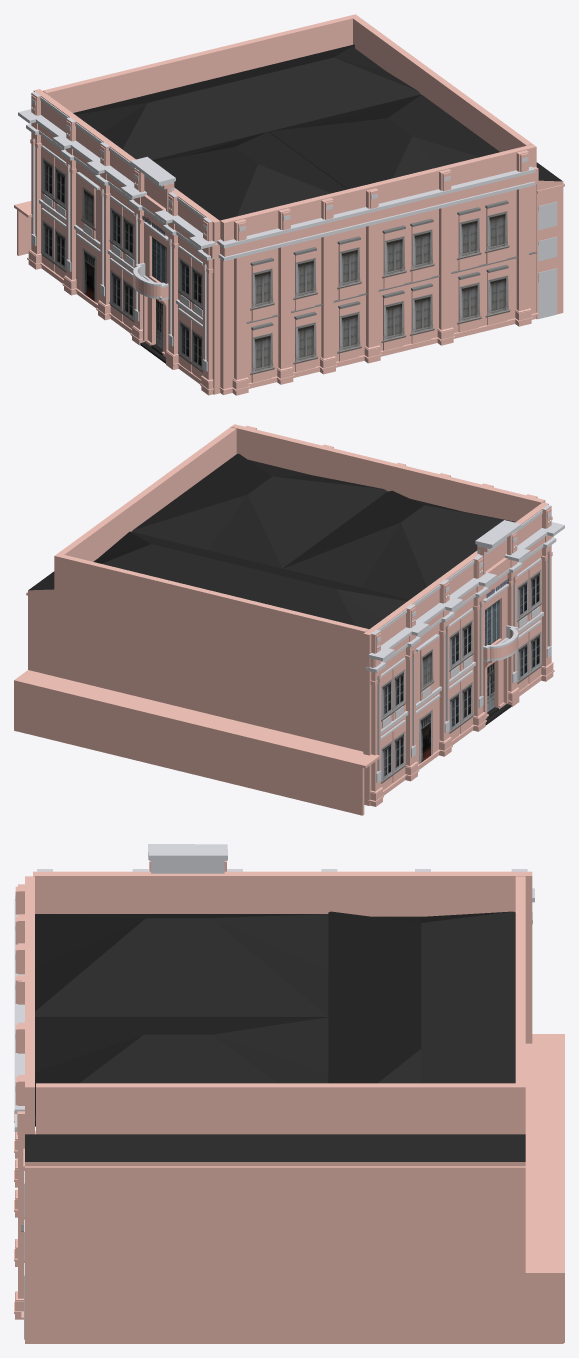
File: caixeral.glb
3 renders of one model, top to bottom at view 1: azimuth 30°, elevation 25°; view 2: azimuth 150°, elevation 25°; view 3: azimuth 270°, elevation 25°, orthographic. The views are drawn at different scales.
Visible parts, largest first — view 1: Cube.016, Cube.158, Cube.157, Cube.009, Cube.156, Cube.154, Cube, Cube.011, Cube.155, Cube.080, Cube.159, Cube.014 (+40 smaller); view 2: Cube.154, Cube.162, Cube.157, Cube.156, Cube.158, Cube.016, Cube, Cube.011, Cube.161, Cube.155, Cube.159, Cube.012 (+15 smaller); view 3: Cube.159, Cube.158, Cube.156, Cube.155, Cube, Cube.157, Cube.161, Cube.154, Cube.164, Cube.016, Cube.009, Cube.131 (+3 smaller).
Boxes of the visible parts, x1=… form: Cube.016: x1=220, y1=144, x2=536, y2=394; Cube.158: x1=73, y1=44, x2=420, y2=161; Cube.157: x1=269, y1=94, x2=499, y2=189; Cube.009: x1=234, y1=150, x2=528, y2=379; Cube.156: x1=154, y1=131, x2=346, y2=220; Cube.154: x1=43, y1=14, x2=358, y2=112; Cube: x1=33, y1=89, x2=220, y2=394; Cube.011: x1=31, y1=92, x2=212, y2=379; Cube.155: x1=353, y1=16, x2=532, y2=151; Cube.080: x1=220, y1=166, x2=538, y2=256; Cube.159: x1=536, y1=162, x2=564, y2=319; Cube.014: x1=217, y1=166, x2=535, y2=248; Cube.154: x1=54, y1=554, x2=368, y2=751; Cube.162: x1=14, y1=680, x2=364, y2=815; Cube.157: x1=132, y1=453, x2=387, y2=568; Cube.156: x1=283, y1=490, x2=515, y2=599; Cube.158: x1=93, y1=531, x2=409, y2=629; Cube.016: x1=231, y1=424, x2=545, y2=521; Cube: x1=363, y1=502, x2=548, y2=805; Cube.011: x1=371, y1=504, x2=551, y2=791; Cube.161: x1=14, y1=670, x2=379, y2=768; Cube.155: x1=57, y1=427, x2=236, y2=561; Cube.159: x1=26, y1=571, x2=54, y2=675; Cube.012: x1=368, y1=522, x2=564, y2=660; Cube.159: x1=23, y1=1134, x2=525, y2=1343; Cube.158: x1=328, y1=911, x2=515, y2=1083; Cube.156: x1=35, y1=914, x2=328, y2=1017; Cube.155: x1=35, y1=1083, x2=518, y2=1134; Cube: x1=33, y1=871, x2=532, y2=1043; Cube.157: x1=35, y1=1017, x2=328, y2=1126; Cube.161: x1=525, y1=1034, x2=564, y2=1276; Cube.154: x1=515, y1=876, x2=525, y2=1134; Cube.164: x1=523, y1=1275, x2=563, y2=1343; Cube.016: x1=25, y1=876, x2=34, y2=1134; Cube.009: x1=18, y1=884, x2=24, y2=1298; Cube.131: x1=148, y1=844, x2=227, y2=860.
Bounding box in the file's own units: 29.4 × 14.21 × 27.58.
10 materials, 6 textured.
